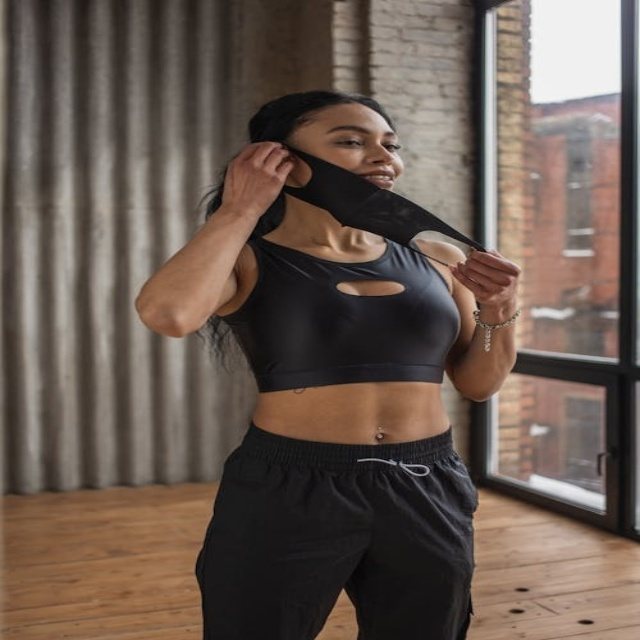Sin_gafas: (335, 139, 363, 148), (384, 143, 401, 152)
Sin_guantes: (206, 136, 300, 205), (439, 247, 530, 314)
Sin_mascara: (347, 164, 404, 189)
